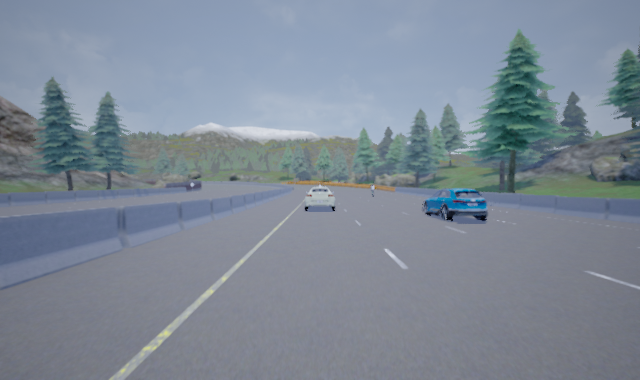vehicle: (421, 188, 489, 221), (303, 186, 336, 211)
